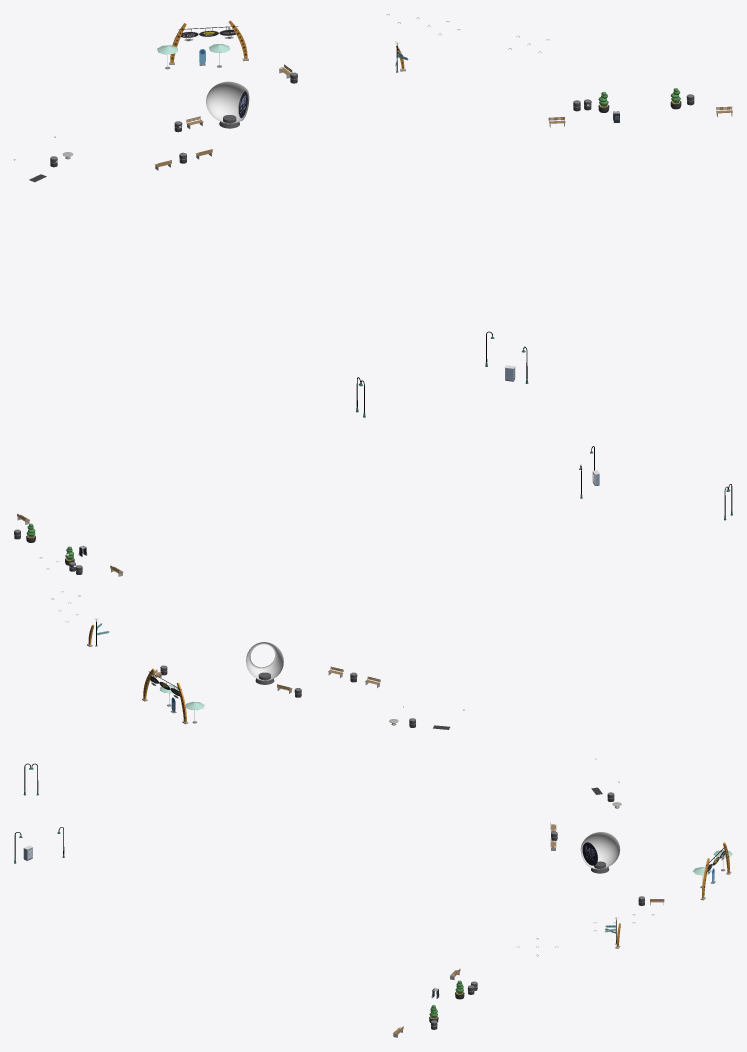
File: expo-detail.glb
The picture shows the model from 3 angles, top to bottom: view 1: azimuth 30°, elevation 25°; view 2: azimuth 150°, elevation 25°; view 3: azimuth 270°, elevation 25°; orthographic projection. The views are drawn at different scales.
Parts seen in each view (by area): view 1: expo-detail-paint, expo-detail-gloss, expo-detail-concrete; view 2: expo-detail-paint, expo-detail-gloss, expo-detail-concrete; view 3: expo-detail-paint, expo-detail-gloss, expo-detail-concrete.
Boxes of the visible parts, x1,y1,x2,y2 form: expo-detail-paint: (14, 20, 732, 417); expo-detail-gloss: (206, 81, 249, 123); expo-detail-concrete: (50, 58, 694, 167); expo-detail-paint: (14, 446, 732, 722); expo-detail-gloss: (246, 642, 283, 680); expo-detail-concrete: (14, 531, 415, 727); expo-detail-paint: (14, 758, 732, 1034); expo-detail-gloss: (580, 832, 620, 869); expo-detail-concrete: (429, 794, 731, 1029).
Bounding box in the file's own units: 77.16 × 6.36 × 89.61.
